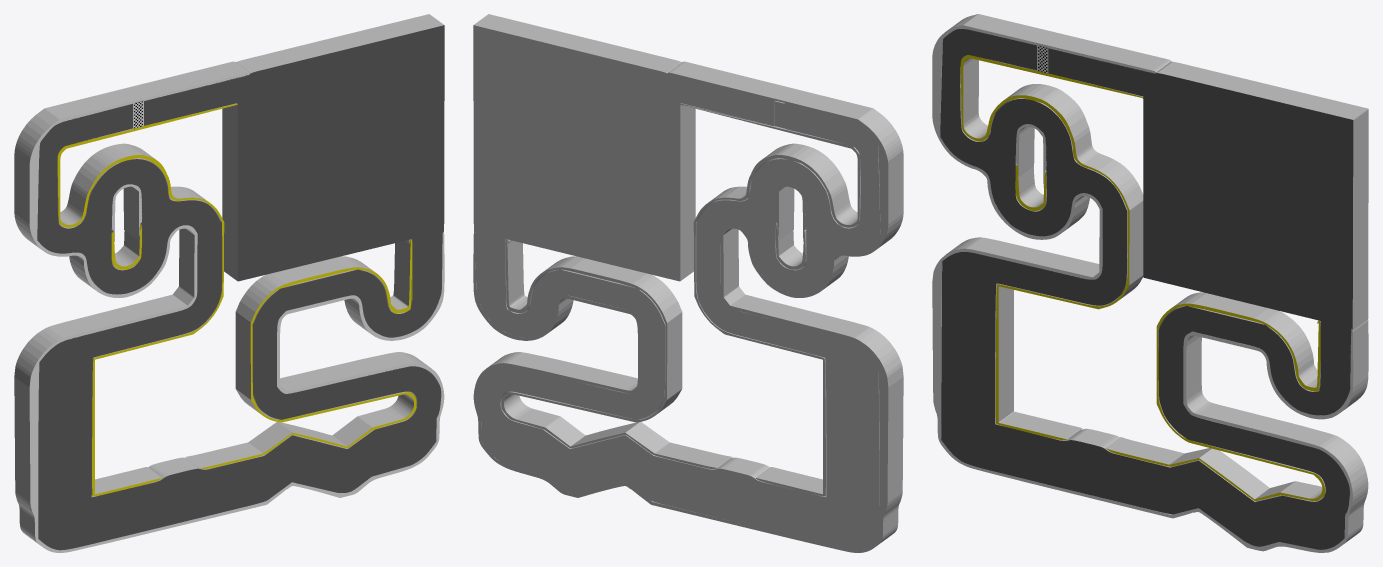
Rendered from course_autorace_2025.glb.
3 renders of one model, left to right at view 1: azimuth 30°, elevation 25°; view 2: azimuth 150°, elevation 25°; view 3: azimuth 330°, elevation 25°, orthographic.
Parts seen in each view (by area): view 1: course_autorace_2025; view 2: course_autorace_2025; view 3: course_autorace_2025.
Boxes of the visible parts, x1,y1,x2,y2 form: course_autorace_2025: (14, 14, 444, 552); course_autorace_2025: (473, 14, 903, 552); course_autorace_2025: (932, 14, 1368, 552).
Bounding box in the file's own units: 4.73 × 4.87 × 0.3.
4 materials, 1 textured.
